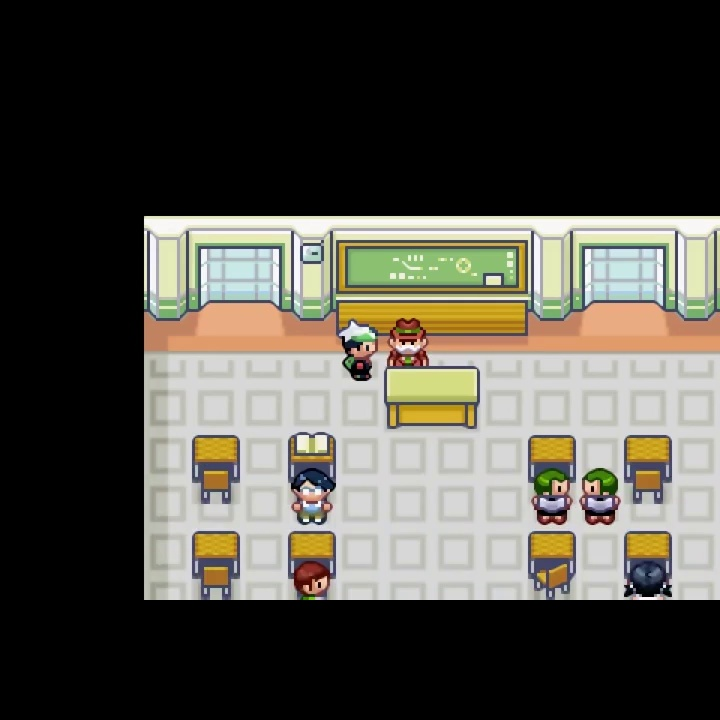npc: (289, 465, 339, 527), (528, 465, 576, 527), (337, 317, 380, 384), (577, 466, 622, 529), (384, 315, 432, 366), (622, 558, 676, 600), (290, 557, 334, 599)
